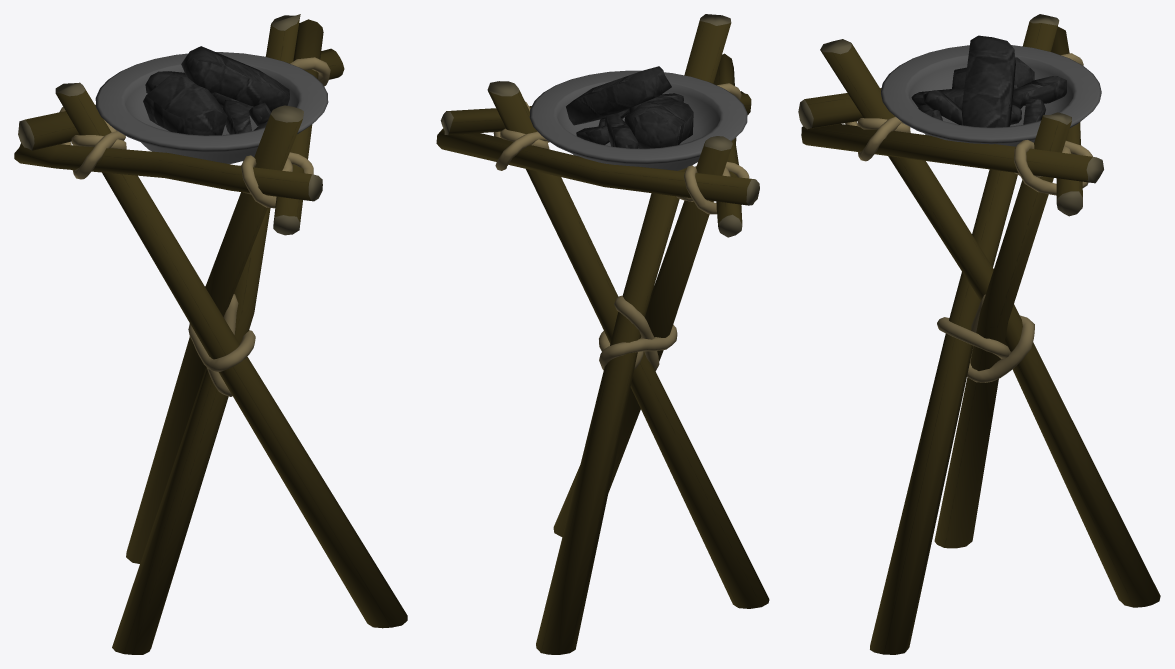
File: lamp_torch.fbx
3 views of the same model, side by side, from view 1: azimuth 30°, elevation 25°; view 2: azimuth 150°, elevation 25°; view 3: azimuth 270°, elevation 25° (orthographic). The views are drawn at different scales.
Visible parts, largest first — view 1: wood, plate, coal, rope; view 2: wood, plate, coal, rope; view 3: wood, plate, coal, rope.
Boxes of the visible parts, left/top/right/bottom form: wood: left=14, top=14, right=407, bottom=654; plate: left=95, top=52, right=328, bottom=164; coal: left=143, top=46, right=289, bottom=135; rope: left=59, top=57, right=330, bottom=396; wood: left=436, top=14, right=769, bottom=654; plate: left=529, top=70, right=747, bottom=170; coal: left=566, top=66, right=693, bottom=148; rope: left=493, top=83, right=749, bottom=371; wood: left=798, top=14, right=1160, bottom=654; plate: left=881, top=45, right=1101, bottom=146; coal: left=911, top=35, right=1066, bottom=127; rope: left=845, top=53, right=1092, bottom=382.
Bounding box in the file's own units: 64.06 × 107 × 63.87.
